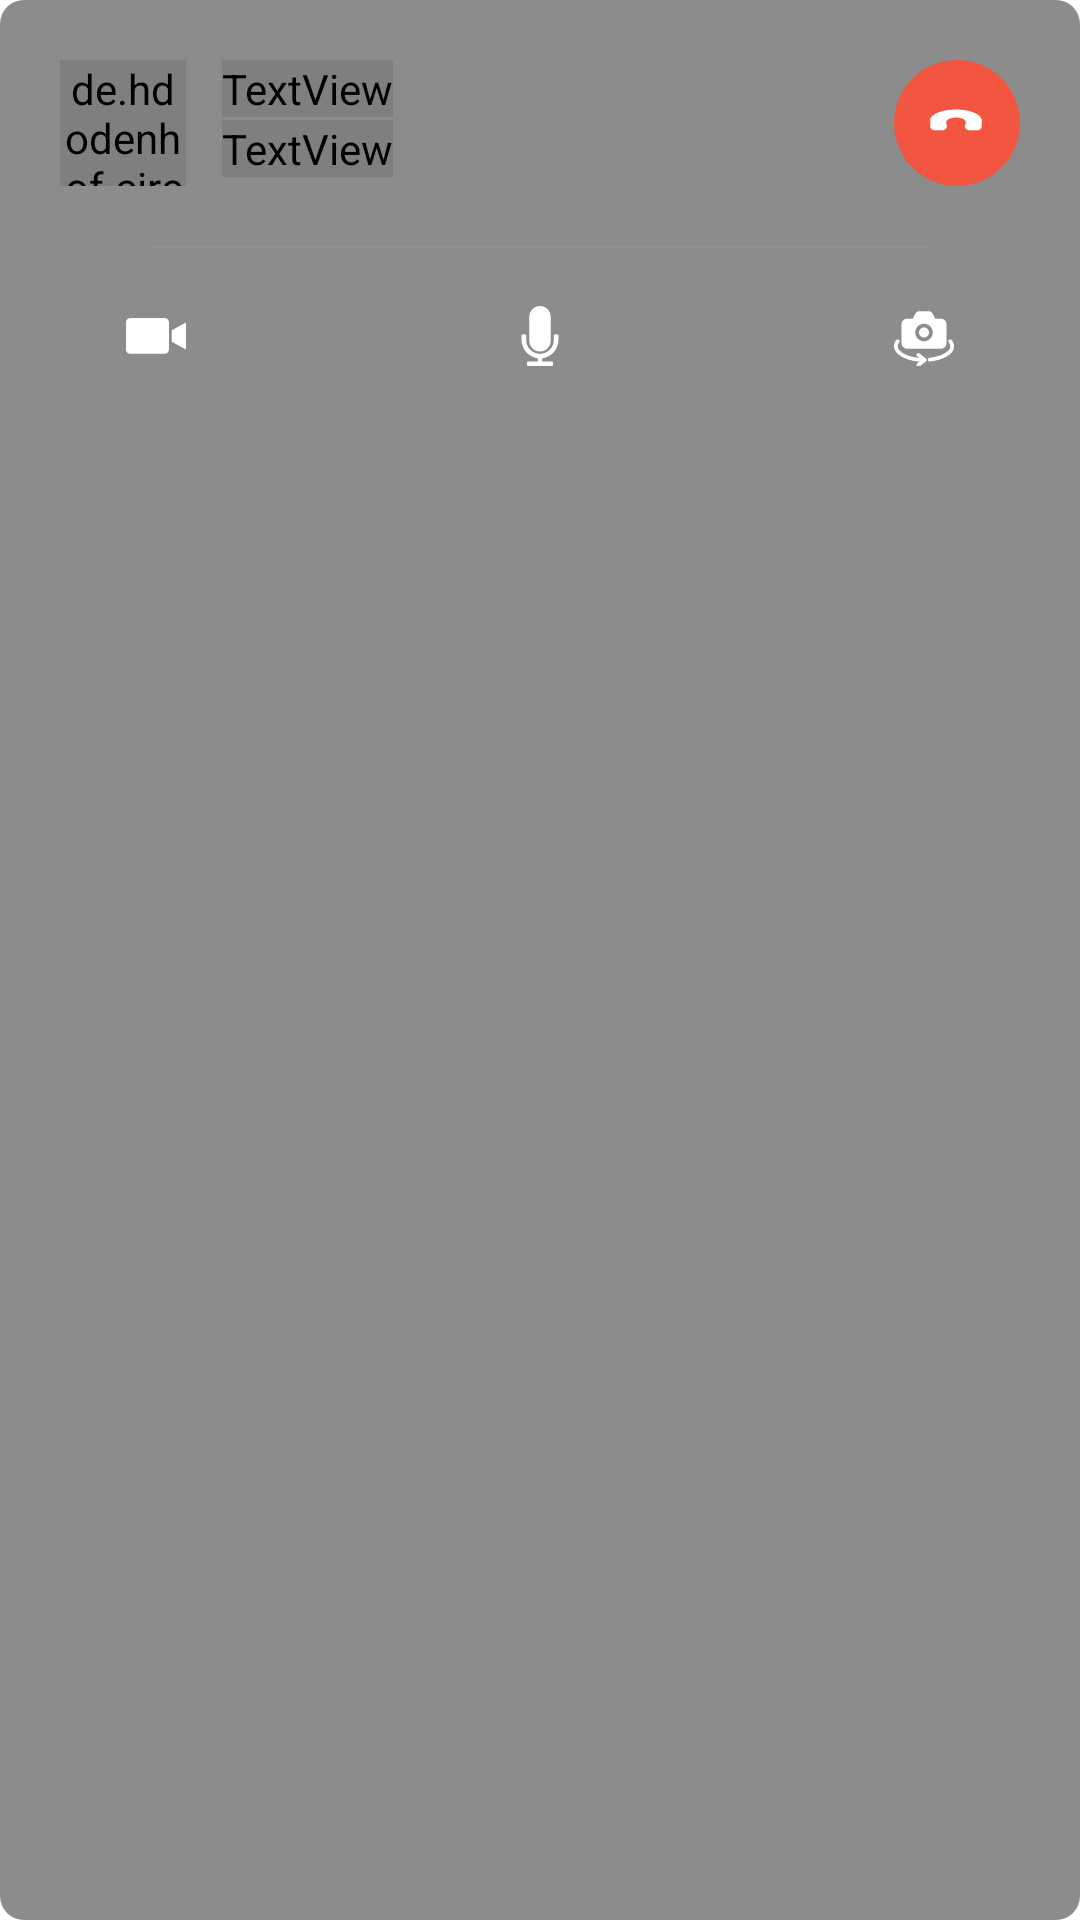

Where to tap for icons on this 1080px×1920px app screen, as (x=x, y=y):
call cut: (x=957, y=123)
mic on: (x=540, y=336)
video on: (x=156, y=336)
